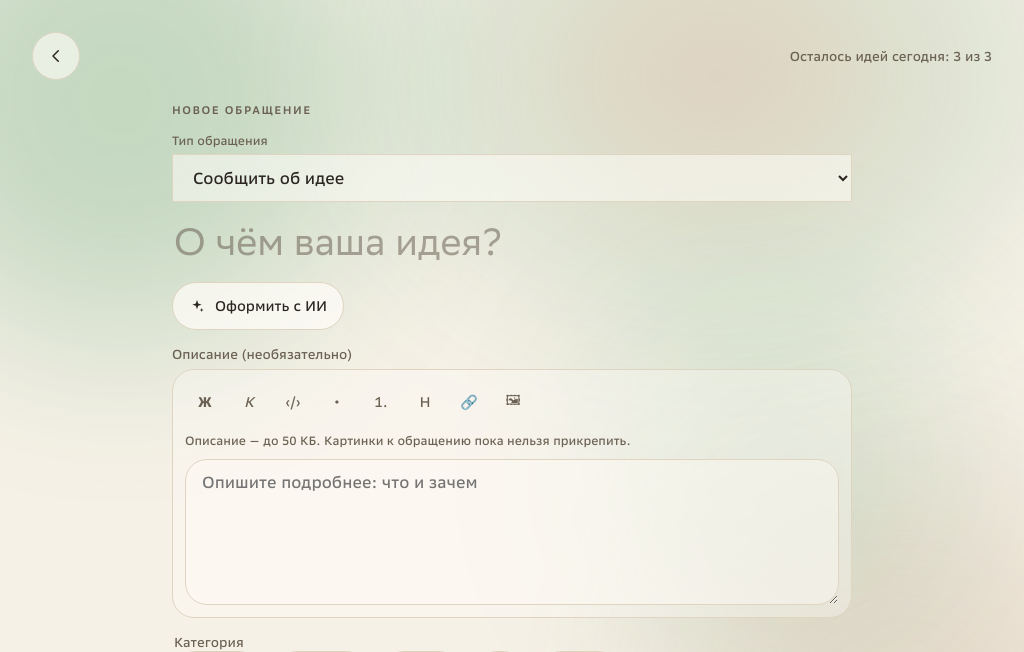
Test: IdeaSubmitScreen — AI-обогащение подачи (MF-1862) › пустой title в черновике не подставляется в поле заголовка
This screenshot has width=1024, height=652.
Click the button "Оформить с ИИ" at (258, 306), box [172, 282, 344, 330]
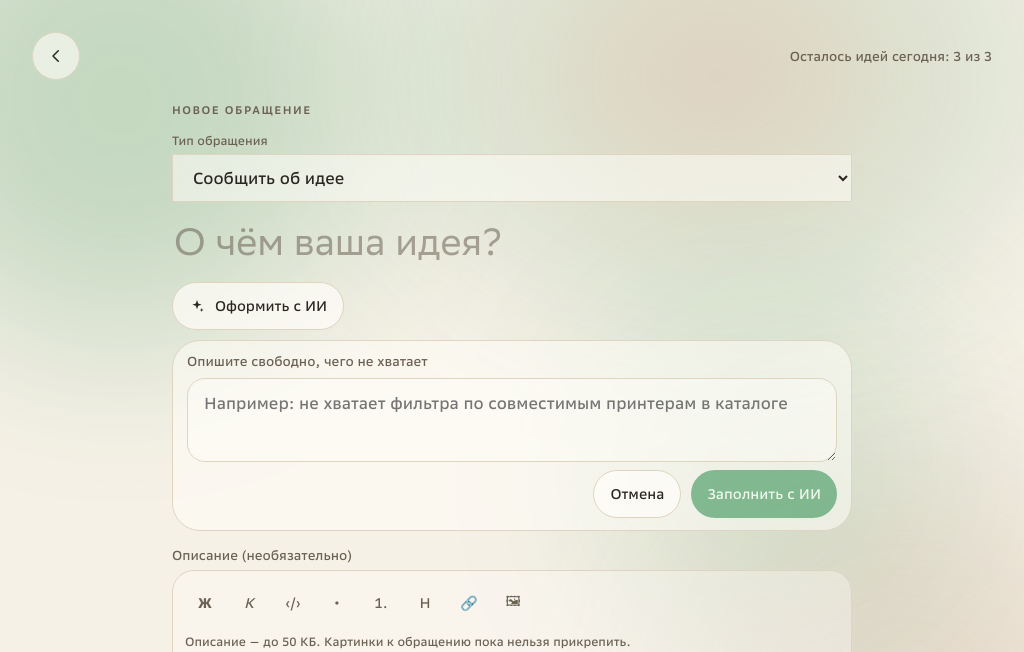
Replace the text in the text box labelled "Опишите свободно, чего не хватает" with "непонятный текст" at (512, 420), box [187, 378, 837, 462]
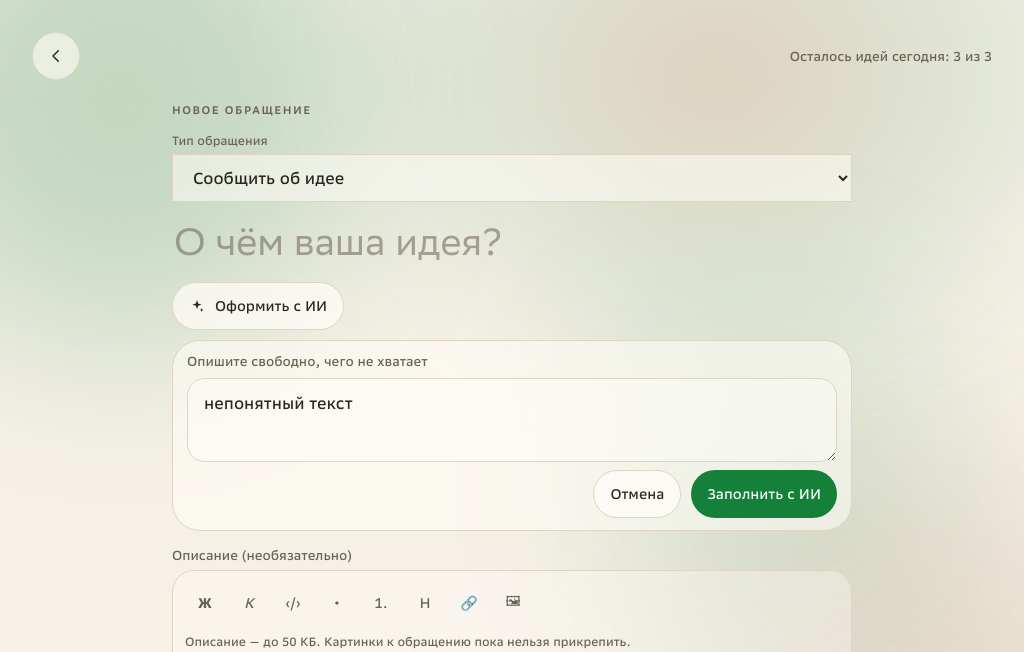
Click the button "Заполнить с ИИ" at (764, 494), box [691, 470, 837, 518]
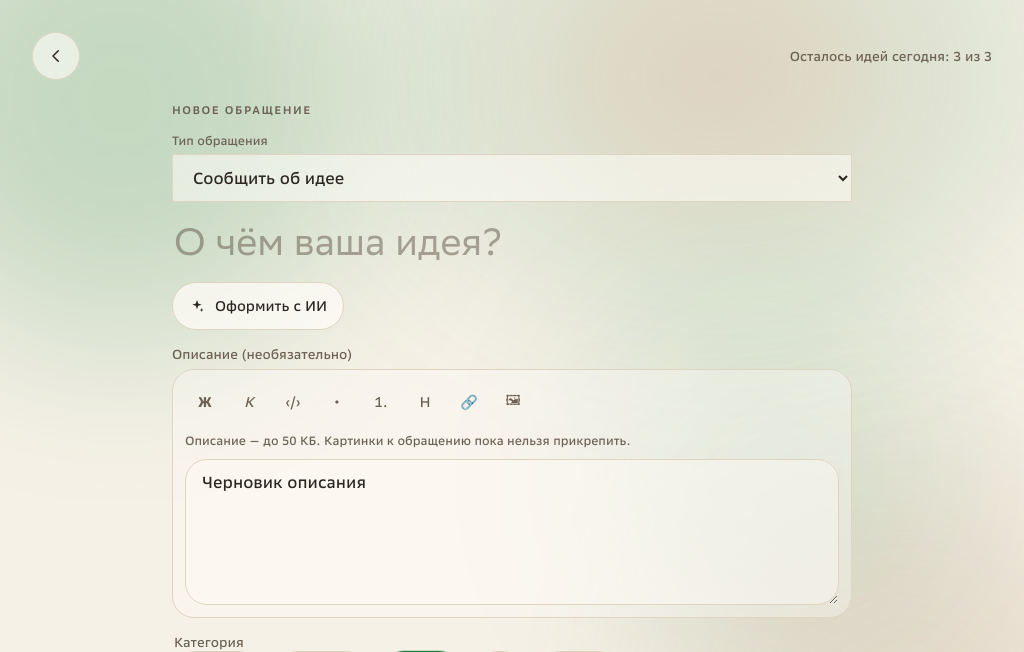
Expected: the field with placeholder "О чём ваша идея?" is empty, [172, 218, 852, 266]
Now the text box labelled "Описание (необязательно)" holds "Черновик описания", box [185, 459, 839, 605]
